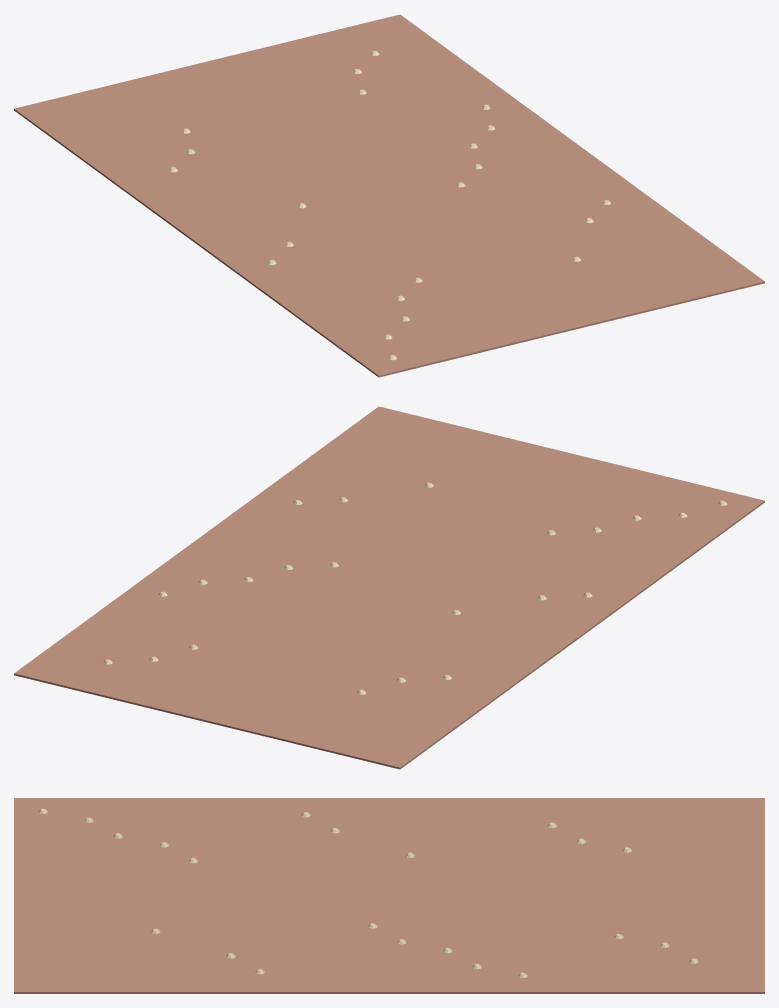
The model's file is suelo_desertico.glb.
The picture shows the model from 3 angles, top to bottom: view 1: azimuth 30°, elevation 25°; view 2: azimuth 150°, elevation 25°; view 3: azimuth 270°, elevation 25°; orthographic projection. The views are drawn at different scales.
Parts seen in each view (by area): view 1: suelo_desertico; view 2: suelo_desertico; view 3: suelo_desertico.
Part boxes in pixels (bbox=[...]): suelo_desertico: bbox=[14, 14, 764, 377]; suelo_desertico: bbox=[14, 406, 764, 769]; suelo_desertico: bbox=[14, 798, 764, 993].
Size of the model in its own units: 110 by 1.15 by 180.
